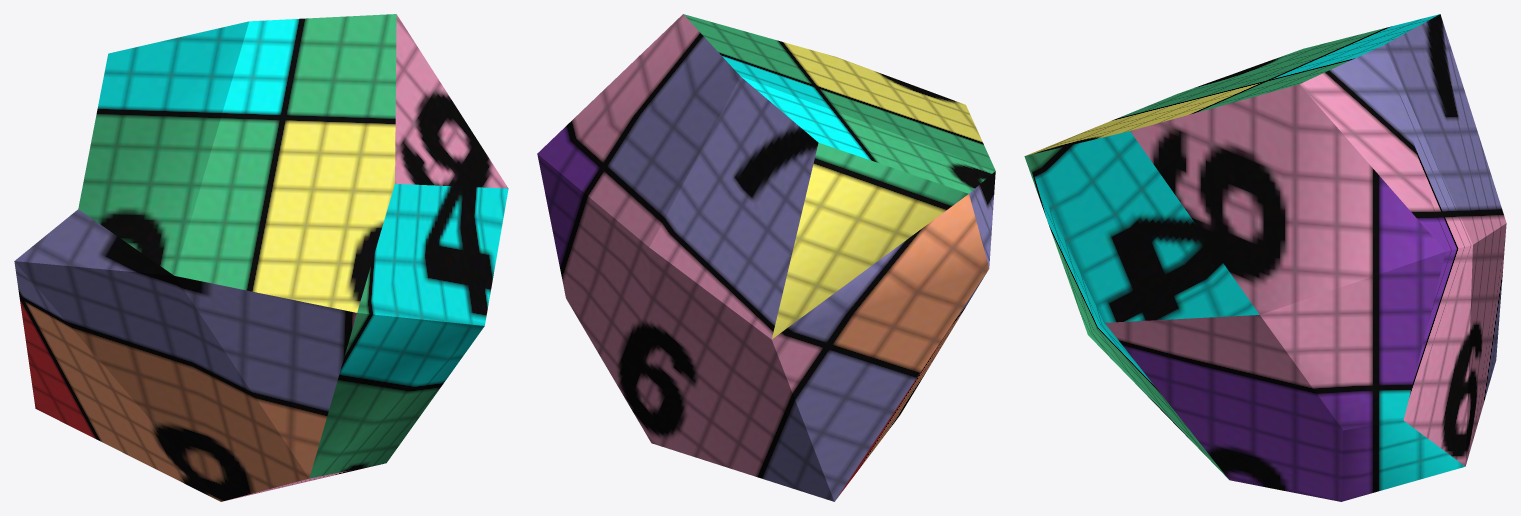
File: lprock8.FBX
The picture shows the model from 3 angles, left to right: view 1: azimuth 30°, elevation 25°; view 2: azimuth 150°, elevation 25°; view 3: azimuth 270°, elevation 25°; orthographic projection. The views are drawn at different scales.
Parts seen in each view (by area): view 1: rock8; view 2: rock8; view 3: rock8.
Boxes of the visible parts, x1,y1,x2,y2 form: rock8: (14,14,508,501); rock8: (537,14,995,501); rock8: (1024,14,1506,501).
Bounding box in the file's own units: 117 × 103 × 107.
1 material, 1 textured.
